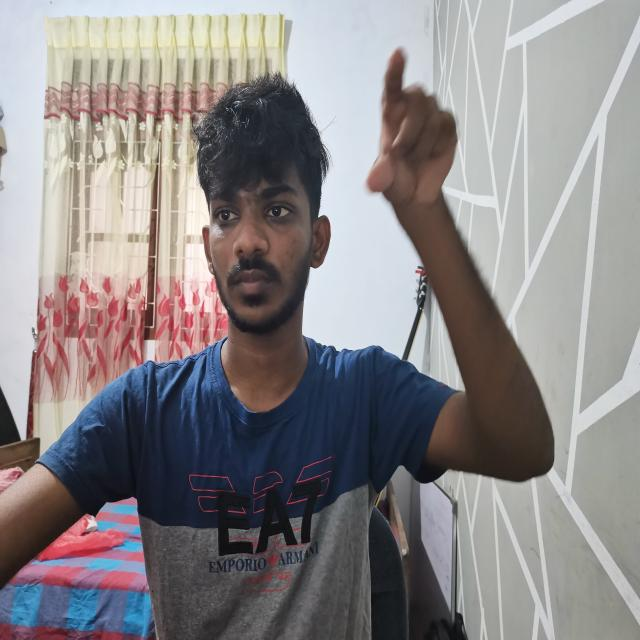No: (364, 34, 464, 221)
